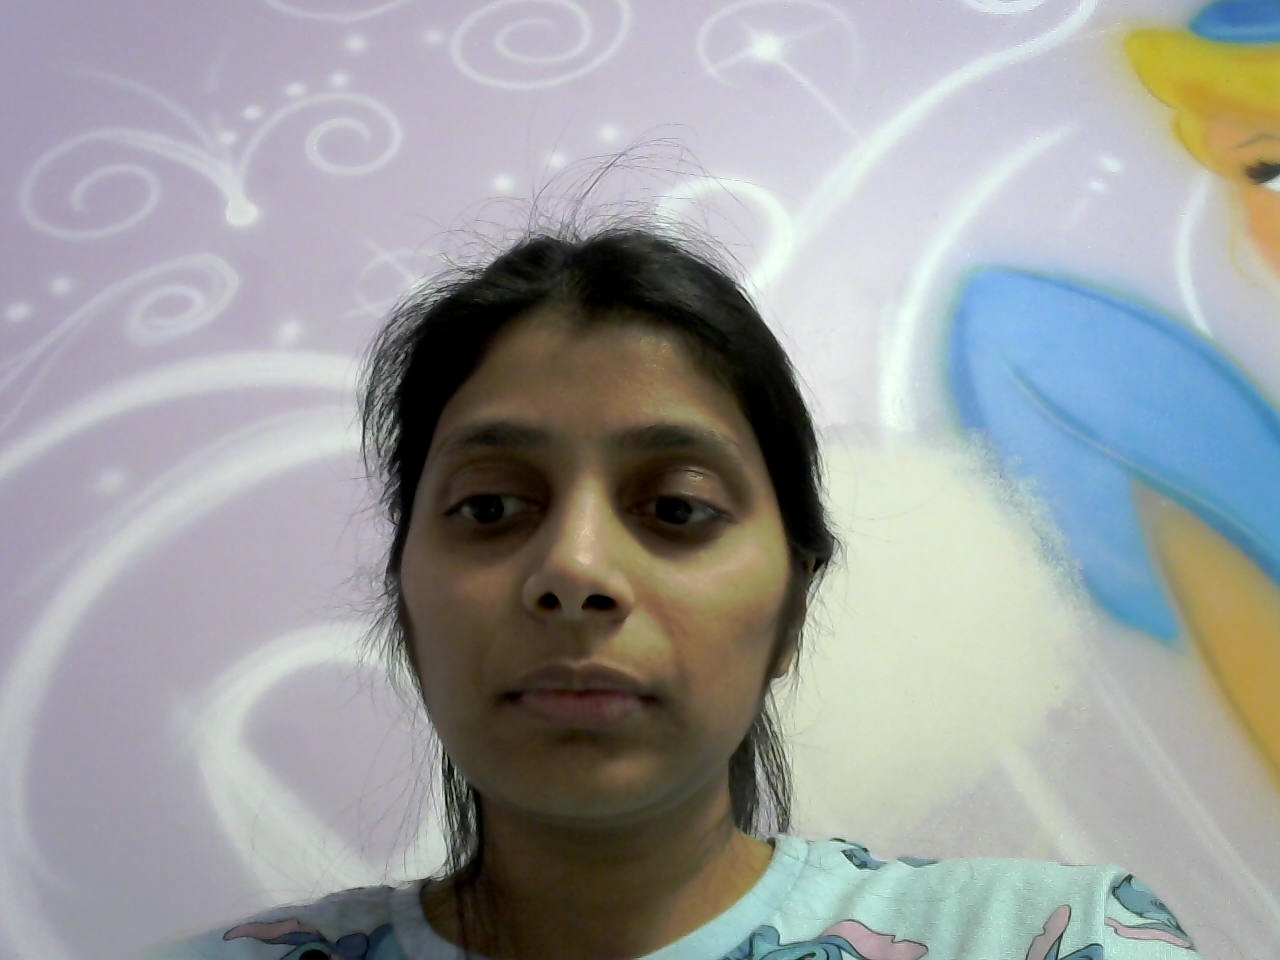no_mask: (383, 535, 805, 829)
